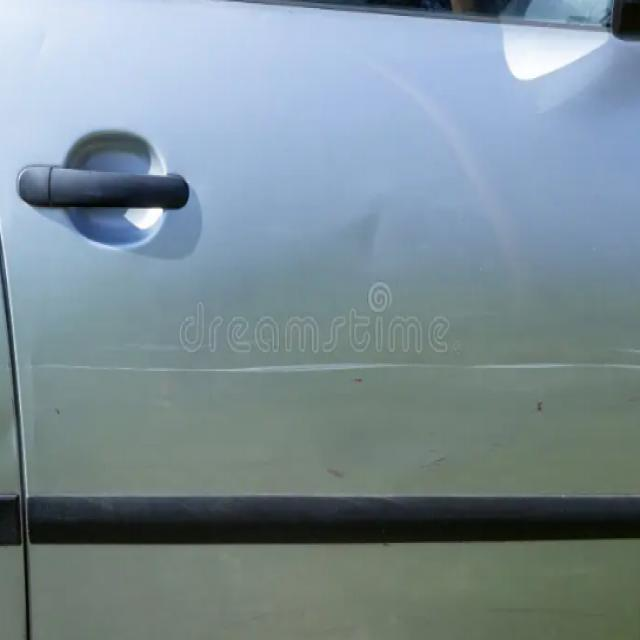dents: (342, 188, 400, 286)
